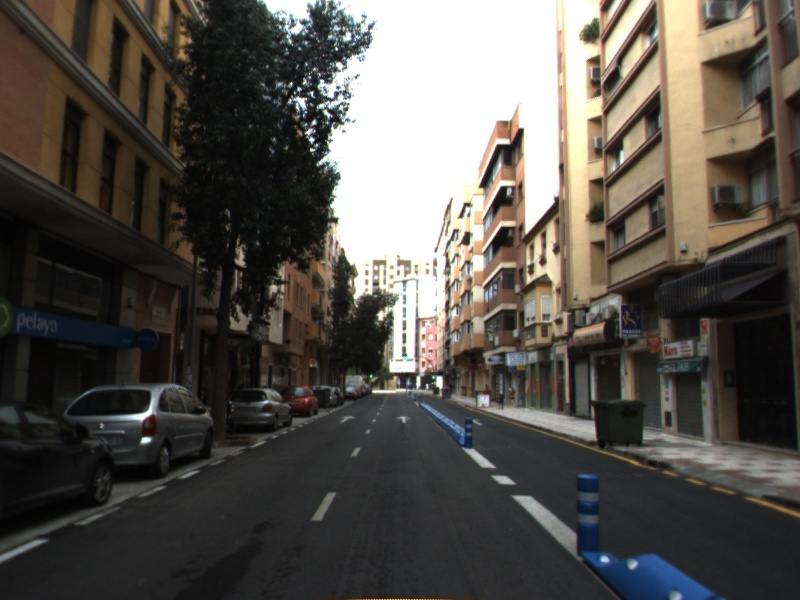STRAIGHT: (338, 414, 357, 424), (395, 414, 412, 424)
